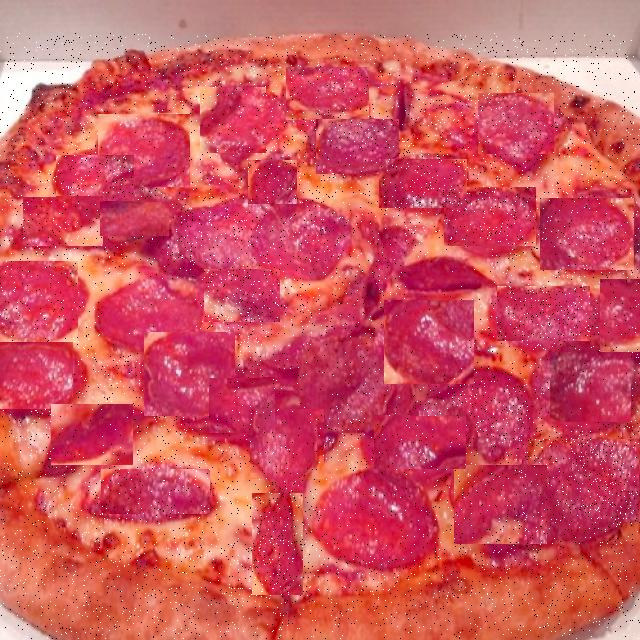Pepperoni: (262, 338, 411, 418), (327, 469, 436, 563), (320, 467, 434, 555), (528, 439, 639, 522), (144, 332, 235, 416), (384, 300, 474, 384), (454, 465, 547, 544), (540, 198, 634, 270), (98, 114, 190, 187), (0, 261, 78, 343), (104, 279, 195, 349), (262, 202, 346, 272), (550, 352, 631, 422), (177, 203, 260, 271), (444, 188, 536, 248), (452, 375, 530, 443), (252, 493, 303, 595), (497, 286, 590, 341), (250, 410, 324, 479), (51, 404, 133, 465), (101, 469, 210, 514), (0, 342, 73, 409), (374, 416, 466, 469), (478, 94, 554, 156), (316, 119, 399, 174), (379, 160, 467, 210), (286, 67, 369, 120), (200, 87, 266, 153), (406, 248, 490, 299), (204, 269, 280, 322), (23, 197, 103, 246), (56, 156, 134, 203), (209, 378, 275, 433), (600, 279, 640, 352), (100, 202, 169, 236), (248, 160, 297, 204)
Pizza: (0, 34, 640, 640)
